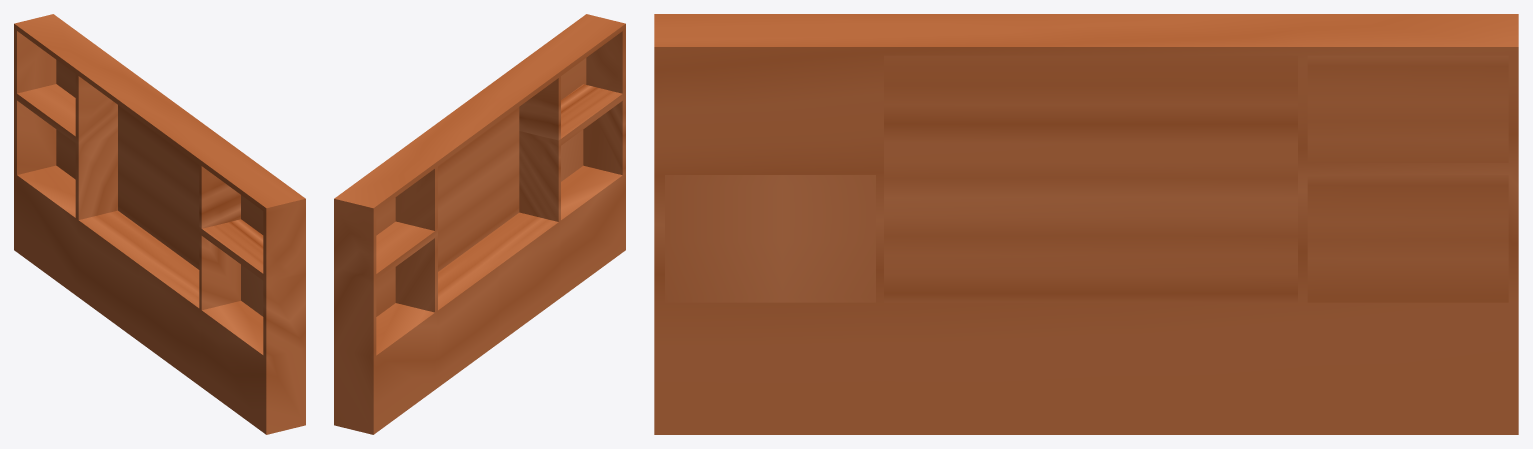
File: lemari(NEWWWW).fbx
The picture shows the model from 3 angles, left to right: view 1: azimuth 30°, elevation 25°; view 2: azimuth 150°, elevation 25°; view 3: azimuth 270°, elevation 25°; orthographic projection. The views are drawn at different scales.
Visible parts, largest first — view 1: Rak Buku; view 2: Rak Buku; view 3: Rak Buku.
Part boxes in pixels (x1,y1,x2,y2): Rak Buku: (14, 14, 305, 434); Rak Buku: (334, 14, 625, 434); Rak Buku: (654, 14, 1518, 434).
Size of the model in its own units: 200 by 1100 by 2220.
Materials: 1 (1 with a texture image).
